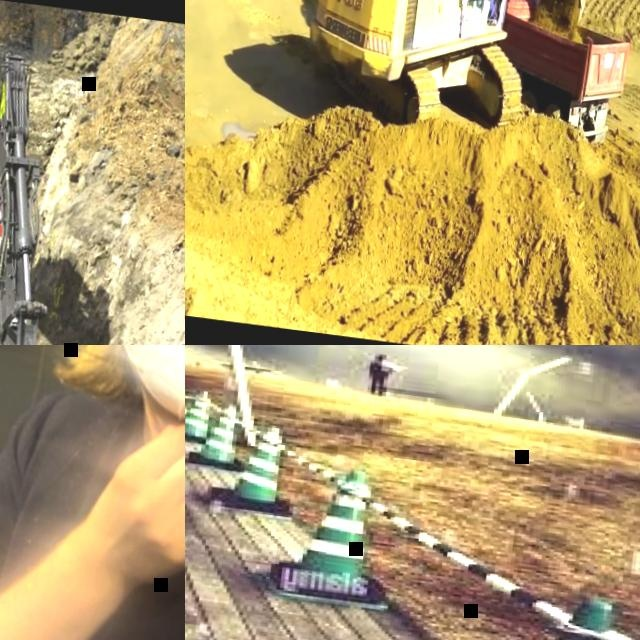NO-Safety Vest: (0, 385, 185, 640), (367, 362, 388, 380)
Person: (0, 345, 185, 640), (364, 352, 397, 393), (473, 0, 499, 20)
Safety Cone: (268, 463, 403, 612), (375, 571, 640, 640), (201, 422, 309, 523), (187, 401, 259, 470), (185, 387, 225, 451), (185, 377, 196, 437)
machinery: (0, 13, 154, 345), (296, 0, 621, 144), (485, 0, 635, 143)
